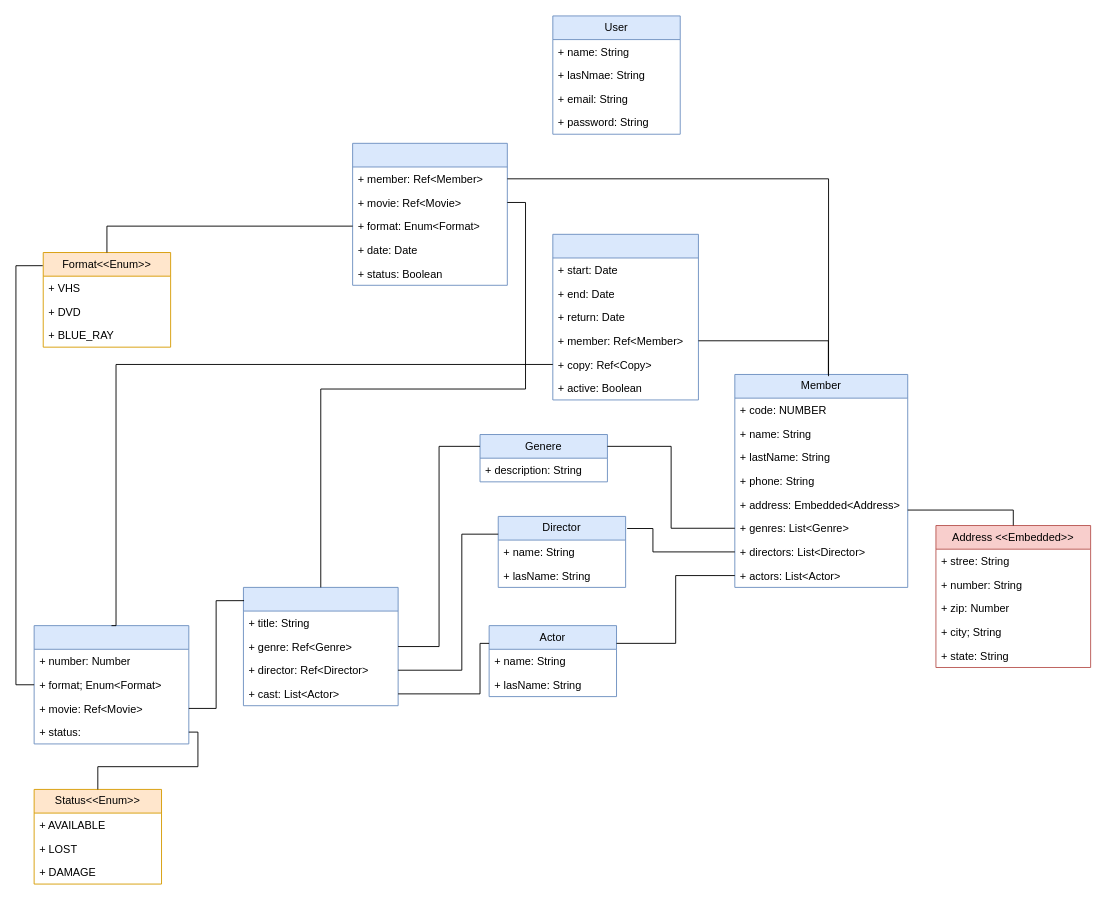
This 1107x903 diagram has some shape labels left out. Here are the shapes that lost their labels. From the top down, the box of each, then its label:
(352, 142, 507, 285): List
(552, 233, 698, 400): Loan
(243, 586, 398, 706): Movie
(33, 625, 189, 744): Copy
